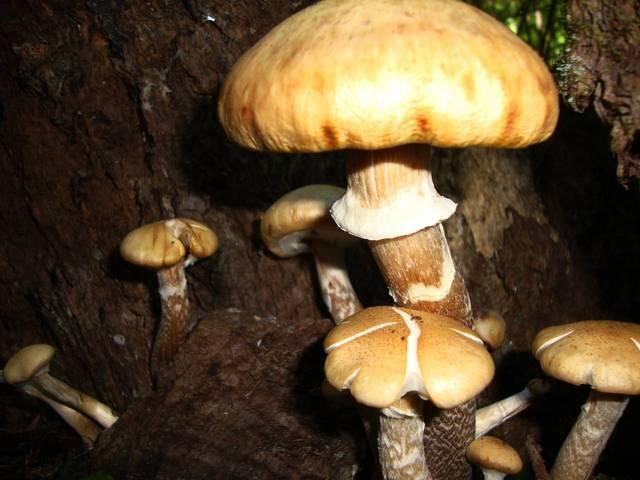Edible Mushroom: (216, 0, 560, 321), (322, 304, 495, 479), (530, 318, 639, 479), (118, 216, 218, 377), (1, 342, 120, 450)
